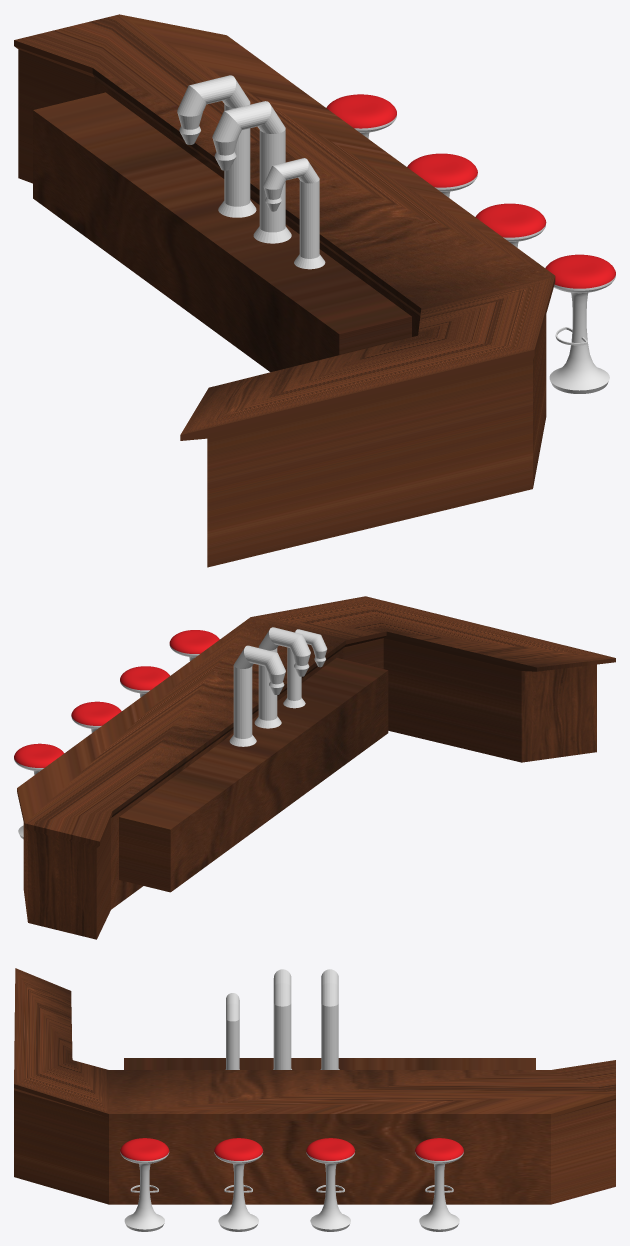
File: bar.fbx
3 renders of one model, top to bottom at view 1: azimuth 30°, elevation 25°; view 2: azimuth 150°, elevation 25°; view 3: azimuth 270°, elevation 25°, orthographic. The views are drawn at different scales.
Parts seen in each view (by area): view 1: Cube, стул+кран; view 2: Cube, стул+кран; view 3: Cube, стул+кран.
Part boxes in pixels (<box>): Cube: <box>14,14,555,567</box>; стул+кран: <box>177,75,615,393</box>; Cube: <box>17,596,615,939</box>; стул+кран: <box>14,627,327,839</box>; Cube: <box>14,968,615,1204</box>; стул+кран: <box>120,969,463,1231</box>.
Bounding box in the file's own units: 856 × 398 × 1258.
3 materials, 1 textured.
